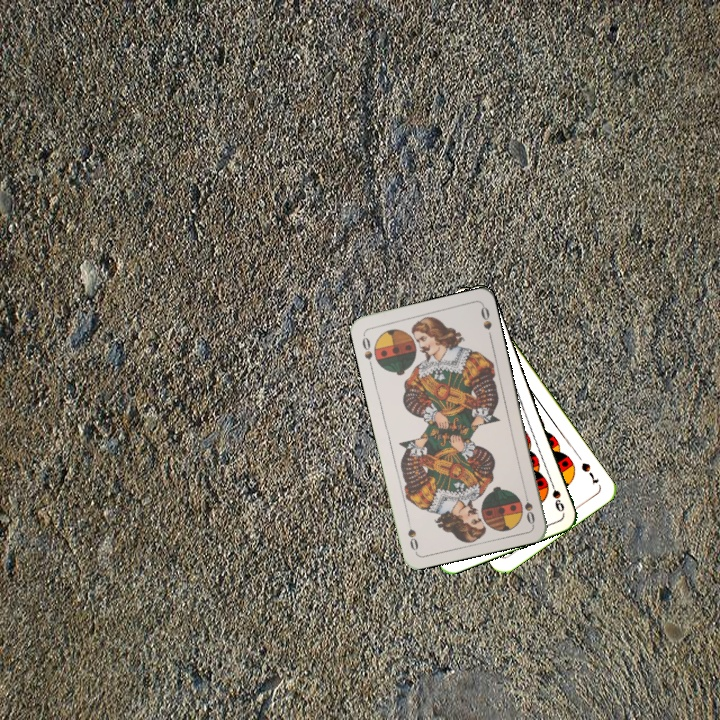S7: (577, 459, 601, 487)
S9: (546, 475, 567, 515)
SO: (520, 486, 537, 527), (358, 330, 375, 370)
